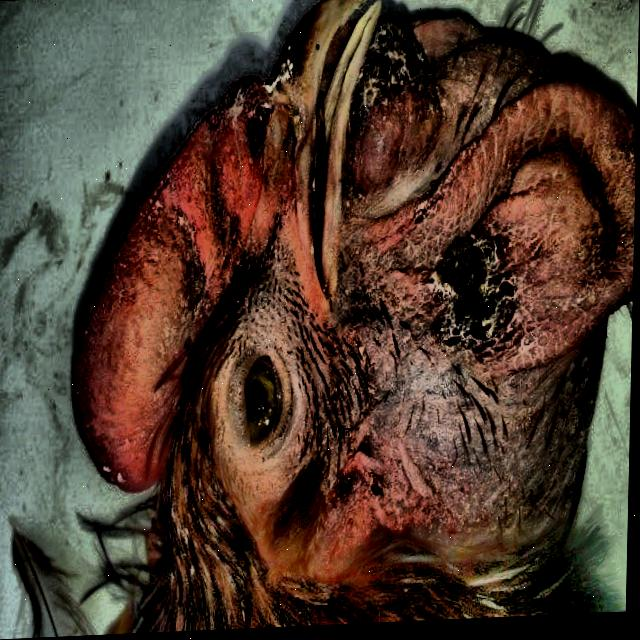Fowl cholera: (60, 0, 640, 615)
